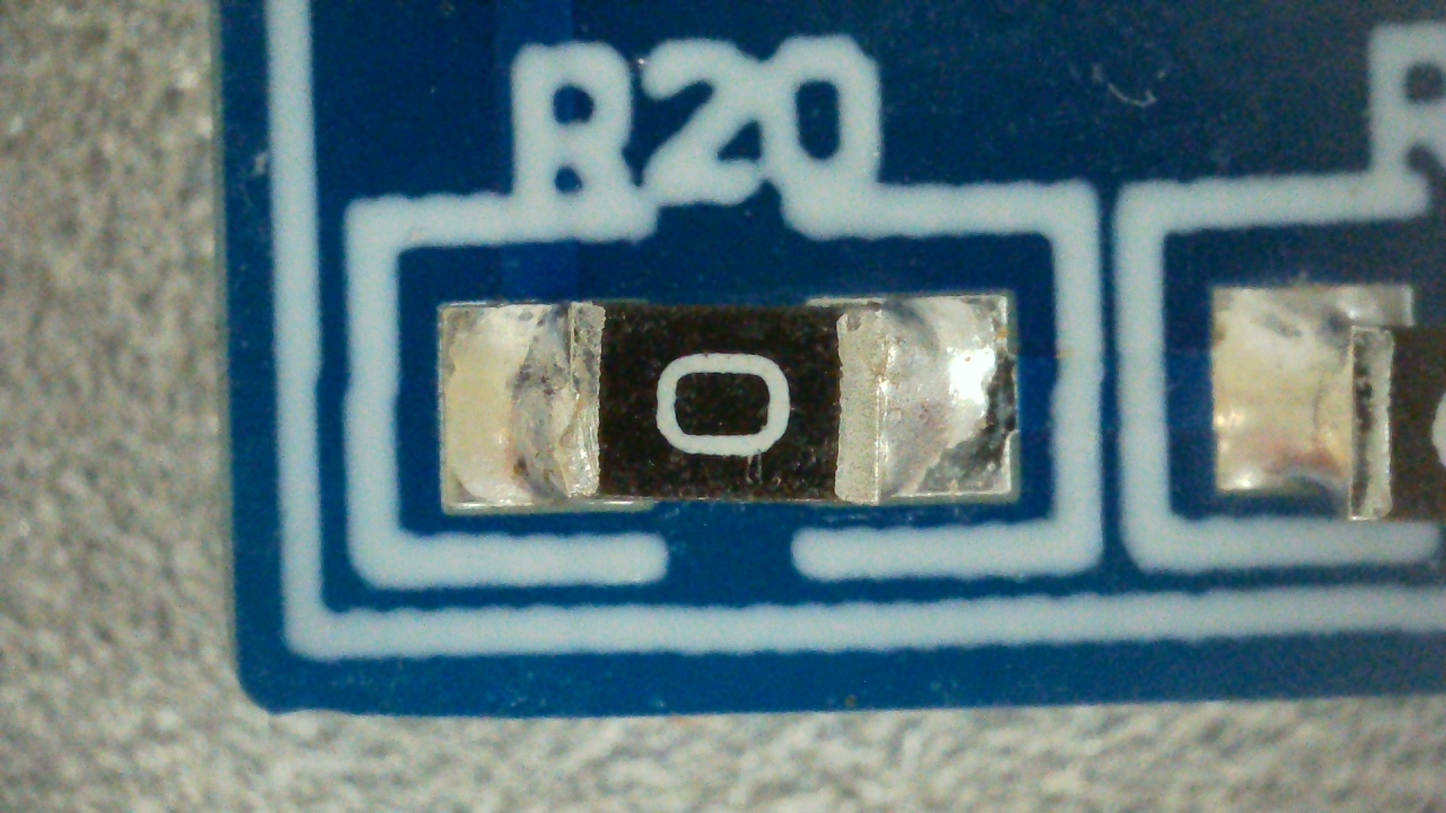OK: (440, 297, 1012, 508)
